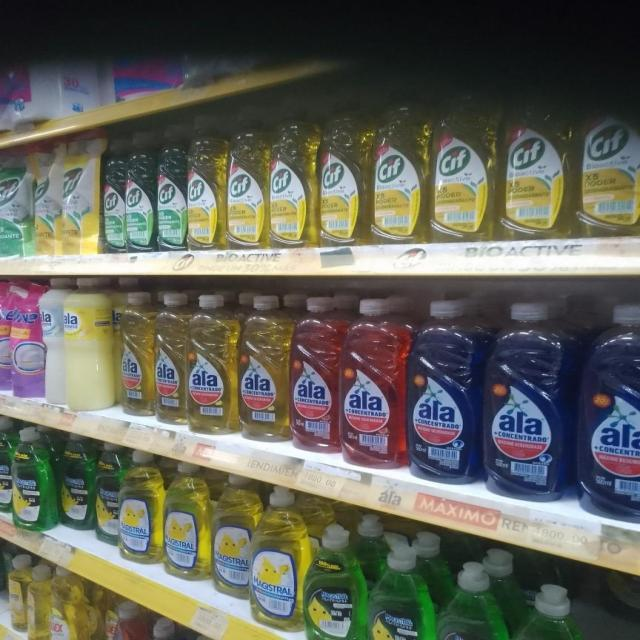ala_conc_amarillo: (238, 293, 289, 444), (187, 292, 237, 436), (117, 290, 154, 419), (154, 290, 187, 426)
ala_conc_azul: (483, 300, 571, 501), (577, 302, 640, 522), (407, 298, 480, 484)
ala_conc_rojo: (341, 296, 404, 472), (290, 296, 338, 457)
ala_crem_amarillo: (61, 277, 114, 412)
cif_conc_bot_amarilla: (502, 109, 574, 242), (431, 107, 498, 243), (577, 108, 640, 240), (371, 108, 428, 245), (319, 116, 368, 247), (268, 119, 316, 249), (226, 127, 267, 250), (187, 124, 225, 252)
cif_conc_botella_verde: (155, 129, 186, 252), (126, 133, 154, 253), (102, 138, 125, 254)
cif_conc_sachet_amarillo: (59, 132, 100, 256), (34, 138, 60, 257)
cif_conc_sachet_verde: (0, 149, 31, 258)
drive: (0, 276, 13, 396)
magistral_con_amarillo: (252, 484, 304, 632), (164, 460, 210, 582), (212, 473, 252, 601), (119, 450, 162, 566)
